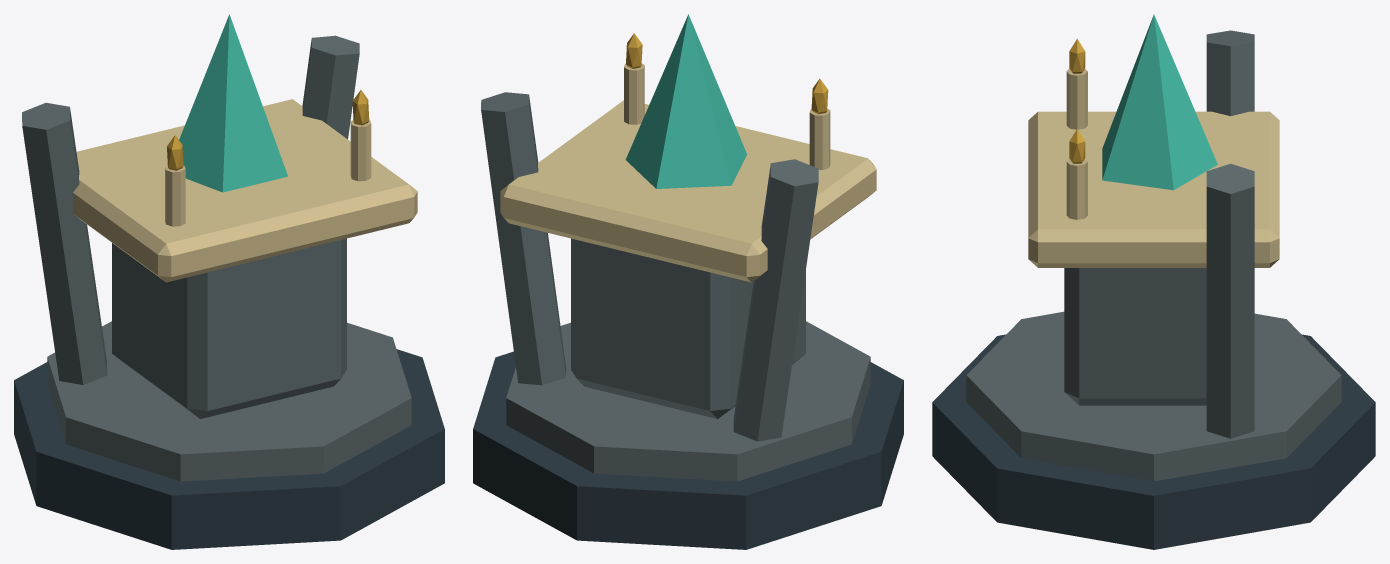
Rendered from Altar.fbx.
The picture shows the model from 3 angles, left to right: view 1: azimuth 30°, elevation 25°; view 2: azimuth 150°, elevation 25°; view 3: azimuth 270°, elevation 25°; orthographic projection.
Parts seen in each view (by area): view 1: Altar_Mesh; view 2: Altar_Mesh; view 3: Altar_Mesh.
Boxes of the visible parts, x1,y1,x2,y2 form: Altar_Mesh: [14, 14, 444, 549]; Altar_Mesh: [473, 14, 903, 549]; Altar_Mesh: [932, 14, 1375, 549].
Size of the model in its own units: 1.04 by 1.15 by 1.04.
